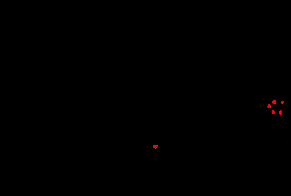Target: (153, 145, 158, 149), (272, 100, 276, 104), (267, 104, 271, 108), (279, 110, 282, 115), (272, 110, 275, 114), (281, 101, 284, 104)
